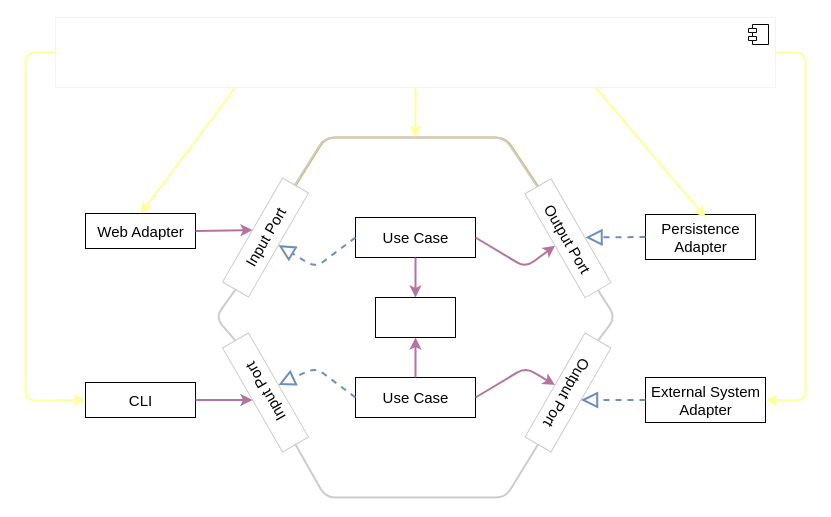
Image size: 831x517. Some labels were removed from this diagram. Each missing label, with the centre of its shape:
"Configuration Component" goes at pixel 415 52.
"Entity" goes at pixel 415 317.
